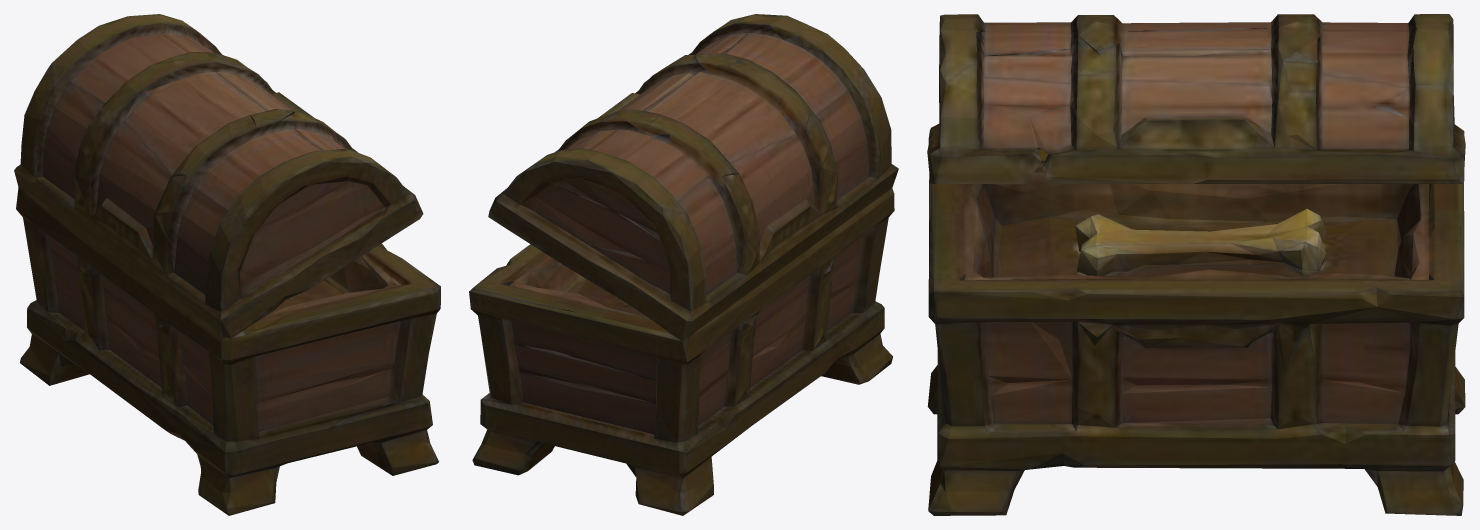
File: gilded_reliquary.glb
The picture shows the model from 3 angles, left to right: view 1: azimuth 30°, elevation 25°; view 2: azimuth 150°, elevation 25°; view 3: azimuth 270°, elevation 25°; orthographic projection. The views are drawn at different scales.
Visible parts, largest first — view 1: tripo_node_4c0e5322-125d-4f26-95b6-18050f38e706.001; view 2: tripo_node_4c0e5322-125d-4f26-95b6-18050f38e706.001; view 3: tripo_node_4c0e5322-125d-4f26-95b6-18050f38e706.001.
Part boxes in pixels (x1,y1,x2,y2): tripo_node_4c0e5322-125d-4f26-95b6-18050f38e706.001: (14, 14, 440, 515); tripo_node_4c0e5322-125d-4f26-95b6-18050f38e706.001: (469, 14, 898, 515); tripo_node_4c0e5322-125d-4f26-95b6-18050f38e706.001: (927, 14, 1465, 515).
Bounding box in the file's own units: 0.6109 × 0.8609 × 0.9995.
1 material, 1 textured.
